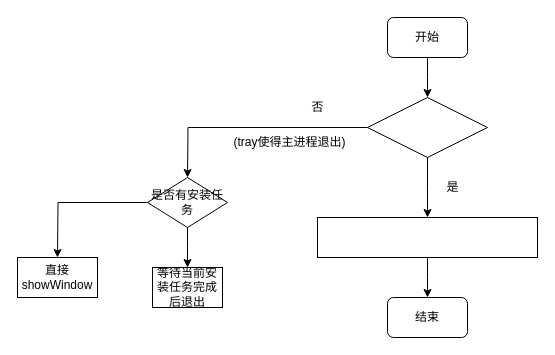
Some shapes in this 555 by 355 pixel diagram are drawn without their labels. The box of each missing label's shape, as (x1, y1, x2, y2) in pixels:
此时窗口设置为HIDE,同时设置窗口显示标志位为false，SetEvent停止下载中的任务，所有线程池等待退出，: (316, 216, 538, 258)
点击x号退出？: (366, 96, 488, 158)
